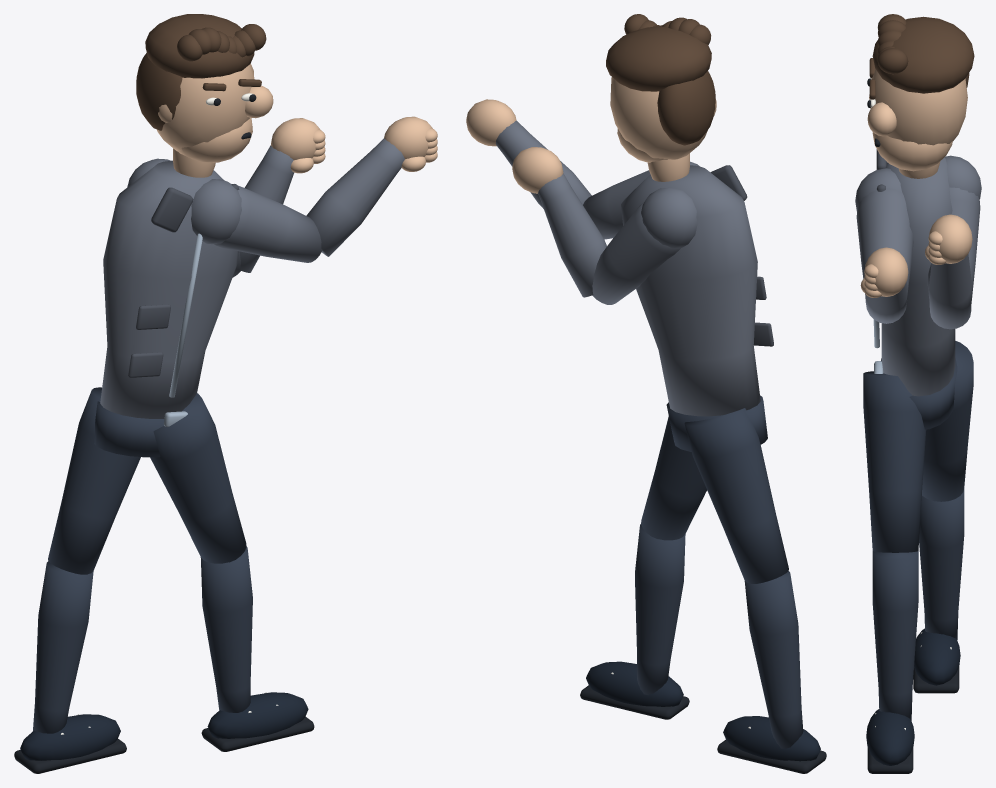
The model's file is marco.glb.
3 renders of one model, left to right at view 1: azimuth 30°, elevation 25°; view 2: azimuth 150°, elevation 25°; view 3: azimuth 270°, elevation 25°, orthographic. The views are drawn at different scales.
Visible parts, largest first — view 1: Fitted torso.012, Trouser thigh.024, Trouser thigh.025, Lower leg.025, Lower leg.024, Forearm.024, Upper arm.024, Head.012, Hair crown.011, Boot.024, Boot.025, Rounded shoulder.024 (+13 smaller); view 2: Fitted torso.012, Trouser thigh.025, Lower leg.025, Lower leg.024, Hair crown.011, Trouser thigh.024, Forearm.025, Upper arm.025, Head.012, Hair back.009, Rounded shoulder.025, Boot.024 (+9 smaller); view 3: Trouser thigh.024, Fitted torso.012, Lower leg.024, Lower leg.025, Hair crown.011, Trouser thigh.025, Head.012, Upper arm.024, Forearm.025, Boot.024, Boot.025, Jaw.012 (+13 smaller).
Part boxes in pixels (bbox=[...]): Fitted torso.012: bbox=[100, 160, 238, 418]; Trouser thigh.024: bbox=[150, 393, 246, 563]; Trouser thigh.025: bbox=[48, 387, 140, 574]; Lower leg.025: bbox=[33, 561, 93, 733]; Lower leg.024: bbox=[200, 547, 252, 712]; Forearm.024: bbox=[306, 138, 404, 256]; Upper arm.024: bbox=[214, 185, 322, 262]; Head.012: bbox=[156, 63, 254, 151]; Hair crown.011: bbox=[145, 14, 254, 78]; Boot.024: bbox=[207, 692, 308, 738]; Boot.025: bbox=[20, 714, 120, 760]; Rounded shoulder.024: bbox=[191, 179, 241, 244]; Fitted torso.012: bbox=[621, 165, 760, 416]; Trouser thigh.025: bbox=[684, 408, 788, 583]; Lower leg.025: bbox=[744, 571, 803, 748]; Lower leg.024: bbox=[635, 524, 685, 695]; Hair crown.011: bbox=[606, 26, 711, 91]; Trouser thigh.024: bbox=[641, 416, 706, 540]; Forearm.025: bbox=[538, 173, 606, 297]; Upper arm.025: bbox=[592, 202, 680, 304]; Head.012: bbox=[610, 77, 707, 159]; Hair back.009: bbox=[657, 71, 715, 145]; Rounded shoulder.025: bbox=[641, 187, 697, 248]; Boot.024: bbox=[586, 661, 683, 706]; Trouser thigh.024: bbox=[863, 371, 926, 552]; Fitted torso.012: bbox=[881, 157, 955, 396]; Lower leg.024: bbox=[872, 551, 918, 720]; Lower leg.025: bbox=[919, 488, 964, 639]; Hair crown.011: bbox=[872, 16, 974, 93]; Trouser thigh.025: bbox=[922, 341, 973, 501]; Head.012: bbox=[869, 69, 967, 145]; Upper arm.024: bbox=[856, 188, 913, 289]; Forearm.025: bbox=[929, 254, 971, 329]; Boot.024: bbox=[866, 709, 914, 765]; Boot.025: bbox=[914, 628, 960, 685]; Jaw.012: bbox=[872, 132, 952, 171].
Bounding box in the file's own units: 86.75 × 155 × 24.84.
